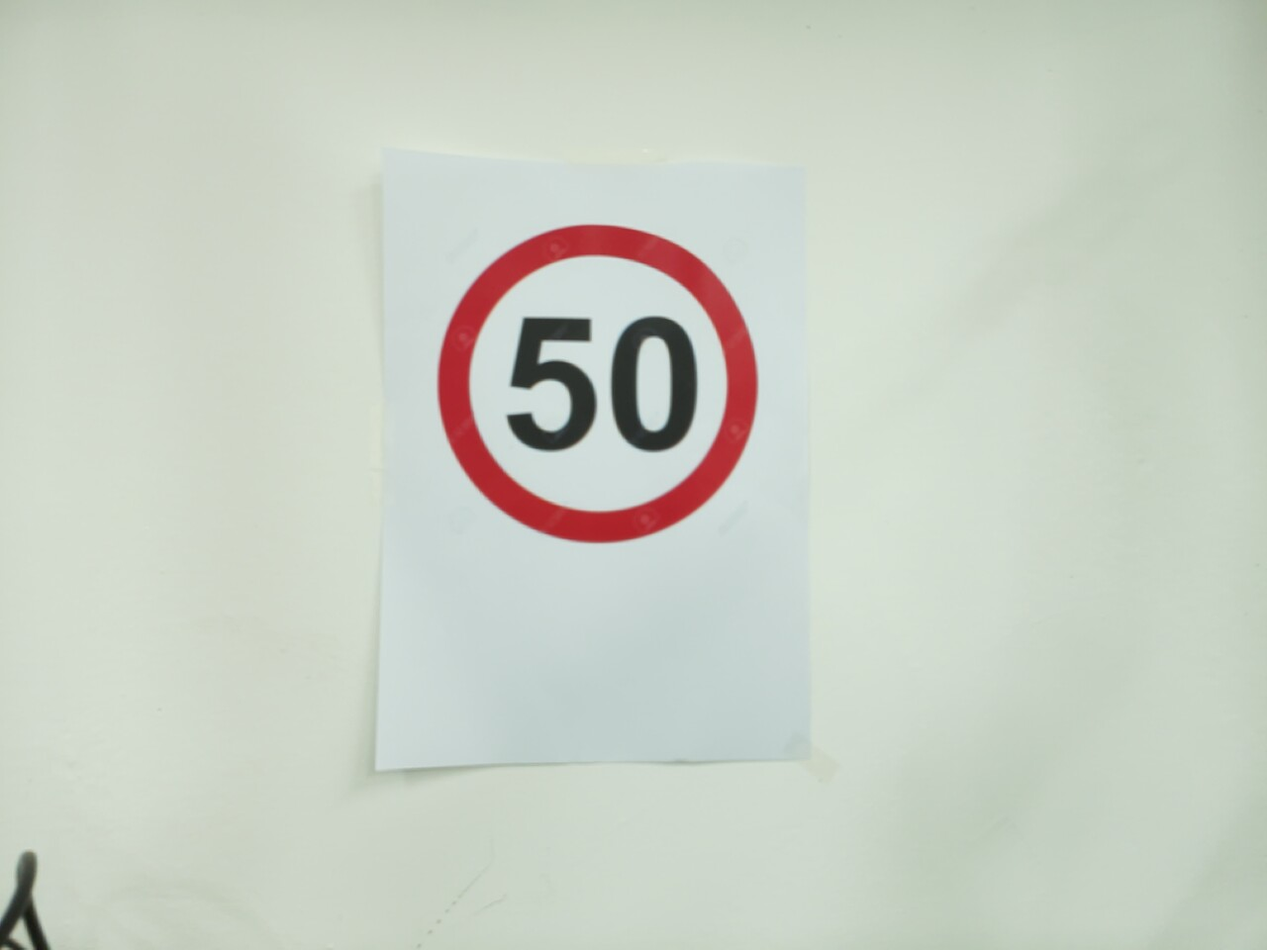speed_50: (428, 215, 768, 553)
